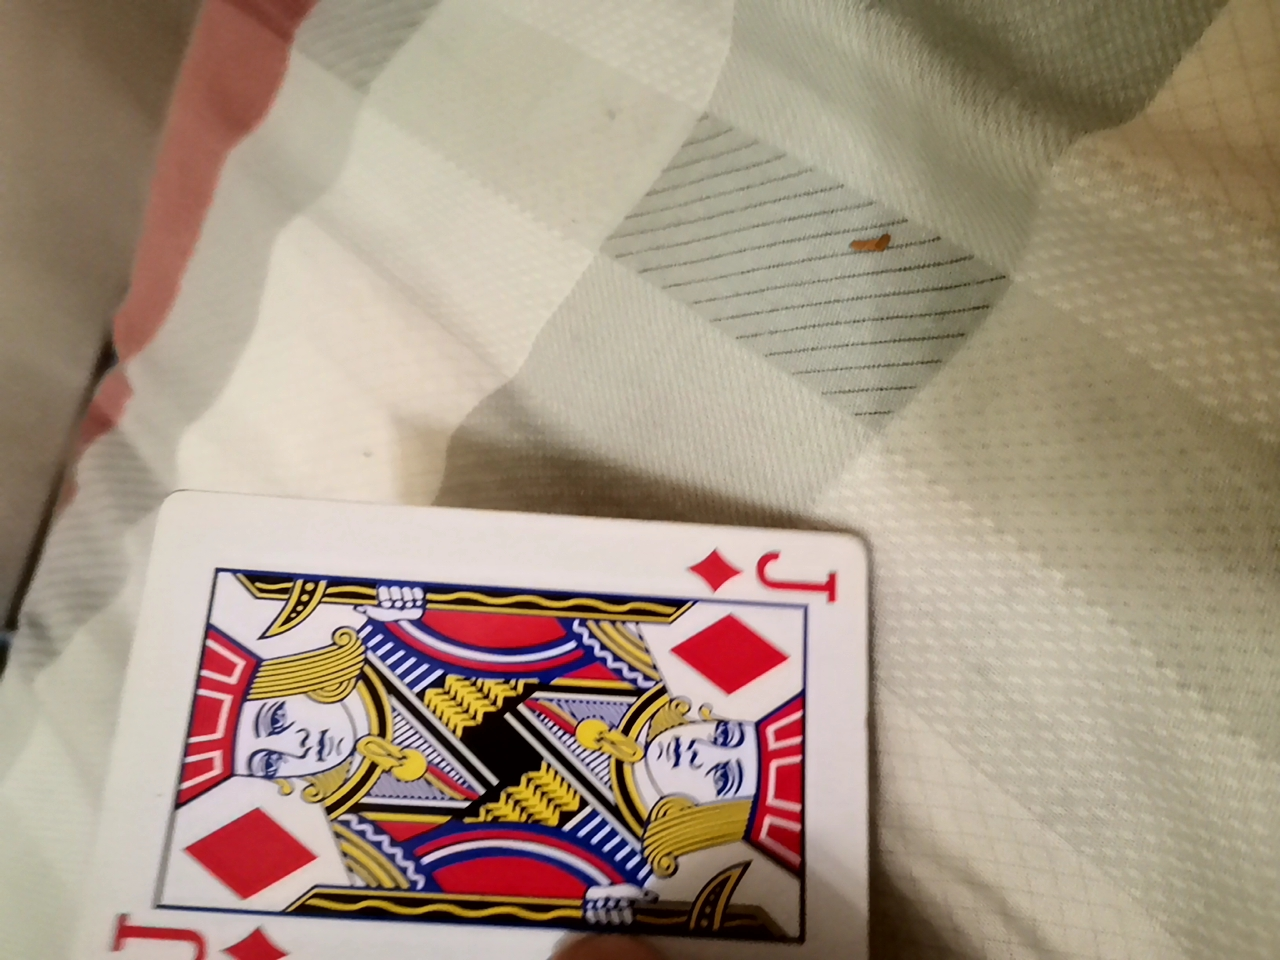fk j: (87, 510, 896, 952)
